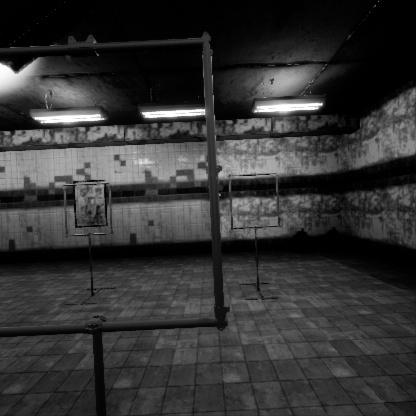gate: (228, 186, 284, 244), (63, 178, 117, 234)
